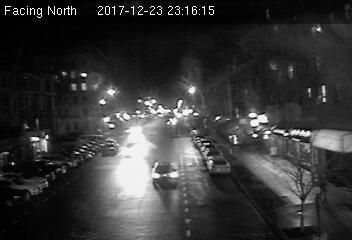car: (151, 160, 179, 183), (207, 155, 229, 171), (100, 139, 118, 155)
